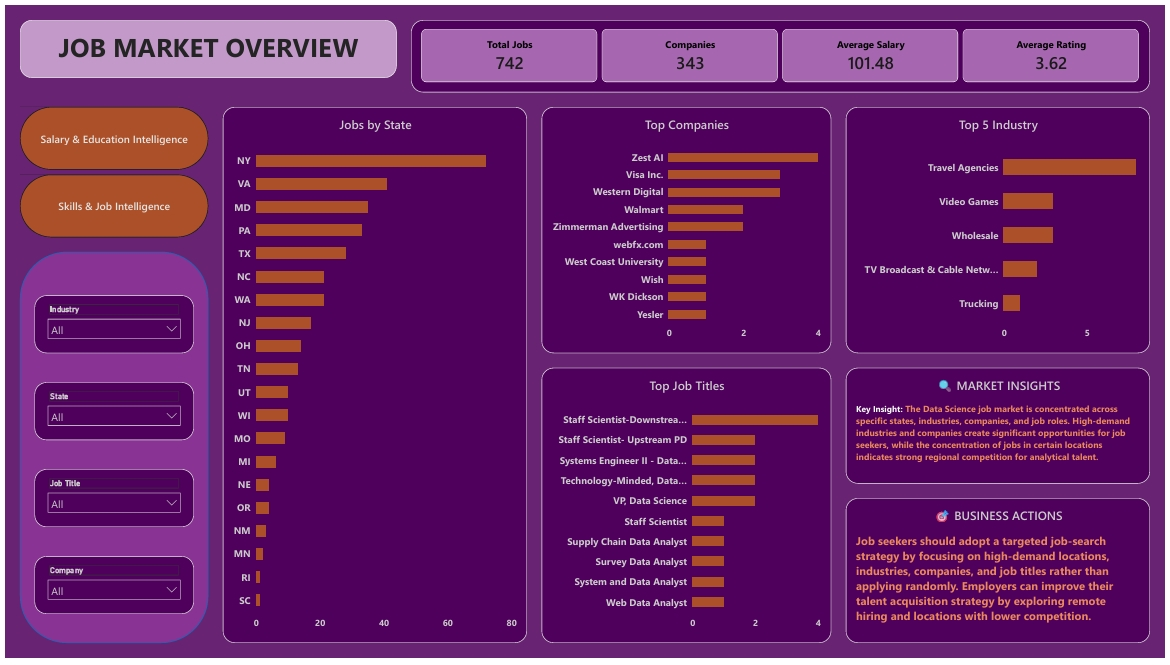

Layout of this report page (visuals, bound fields, positions):
{"tool":"powerbi","page":{"name":"Job Market Overview","canvas":[1920,1080],"ordinal":0},"visuals":[{"type":"shape","box":[24,408,312,648],"z":0},{"type":"barChart","title":"Top 5 Industry","fields":{"Category":["Job_M_Analysis.Industry"],"Y":["Job_M_Analysis.Total Jobs"]},"box":[1392,168,504,408],"z":1000},{"type":"textbox","box":[24,24,624,96],"z":2000},{"type":"barChart","title":"Top Companies","fields":{"Category":["Job_M_Analysis.Company_Name"],"Y":["Job_M_Analysis.Total Jobs"]},"box":[888,168,480,408],"z":3000},{"type":"barChart","title":"Top Job Titles","fields":{"Category":["Job_M_Analysis.Job_Title"],"Y":["Job_M_Analysis.Total Jobs"]},"box":[888,600,480,456],"z":4000},{"type":"cardVisual","fields":{"Data":["Job_M_Analysis.Total Jobs","Job_M_Analysis.Companies","Job_M_Analysis.Average Salary","Job_M_Analysis.Average Rating"]},"box":[672,24,1224,120],"z":5000},{"type":"clusteredBarChart","title":"Jobs by State","fields":{"Category":["Job_M_Analysis.Job_Location"],"Y":["Job_M_Analysis.Total Jobs"]},"box":[360,168,504,888],"z":6000},{"type":"slicer","fields":{"Values":["Job_M_Analysis.Job_Location"]},"box":[48,624,264,96],"z":7000},{"type":"slicer","title":"Industry","fields":{"Values":["Job_M_Analysis.Industry"]},"box":[48,480,264,96],"z":8000},{"type":"slicer","fields":{"Values":["Job_M_Analysis.Job_Title"]},"box":[48,768,264,96],"z":9000},{"type":"slicer","fields":{"Values":["Job_M_Analysis.Company_Name"]},"box":[48,912,264,96],"z":10000},{"type":"textbox","title":"🔍 MARKET INSIGHTS","box":[1392,600,504,192],"z":11000},{"type":"textbox","title":"🎯 BUSINESS ACTIONS","box":[1392,816,504,240],"z":12000},{"type":"pageNavigator","box":[24,168,312,216],"z":13000}]}

Visuals, with their boxes in screenshot pixels (x1, y1, x2, y2), scaled from the page's 1920x1080 canvas onto the 1170x665 screenshot:
shape: x1=15 y1=251 x2=205 y2=650
"Top 5 Industry" barChart: x1=848 y1=103 x2=1155 y2=355
textbox: x1=15 y1=15 x2=395 y2=74
"Top Companies" barChart: x1=541 y1=103 x2=834 y2=355
"Top Job Titles" barChart: x1=541 y1=369 x2=834 y2=650
cardVisual - Job_M_Analysis.Total Jobs x Job_M_Analysis.Companies: x1=410 y1=15 x2=1155 y2=89
"Jobs by State" clusteredBarChart: x1=219 y1=103 x2=526 y2=650
slicer - Job_M_Analysis.Job_Location: x1=29 y1=384 x2=190 y2=443
"Industry" slicer: x1=29 y1=296 x2=190 y2=355
slicer - Job_M_Analysis.Job_Title: x1=29 y1=473 x2=190 y2=532
slicer - Job_M_Analysis.Company_Name: x1=29 y1=562 x2=190 y2=621
"🔍 MARKET INSIGHTS" textbox: x1=848 y1=369 x2=1155 y2=488
"🎯 BUSINESS ACTIONS" textbox: x1=848 y1=502 x2=1155 y2=650
pageNavigator: x1=15 y1=103 x2=205 y2=236
